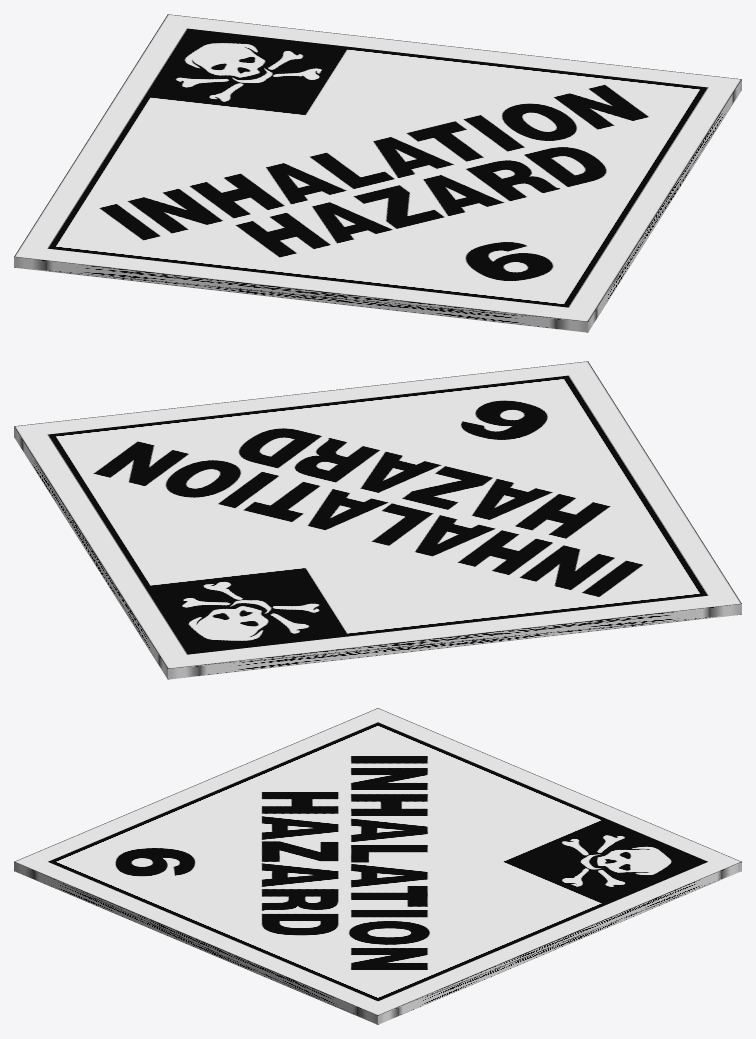
The model's file is hazmat_inhalation-hazard.dae.
3 views of the same model, one above another, from view 1: azimuth 30°, elevation 25°; view 2: azimuth 150°, elevation 25°; view 3: azimuth 270°, elevation 25° (orthographic). The views are drawn at different scales.
Visible parts, largest first — view 1: Sign_Material.016; view 2: Sign_Material.016; view 3: Sign_Material.016.
Boxes of the visible parts, bbox=[...] form: Sign_Material.016: bbox=[14, 14, 741, 332]; Sign_Material.016: bbox=[14, 361, 741, 679]; Sign_Material.016: bbox=[14, 708, 741, 1024].
Size of the model in its own units: 0.1414 by 0.1414 by 0.002.
Materials: 1 (1 with a texture image).
